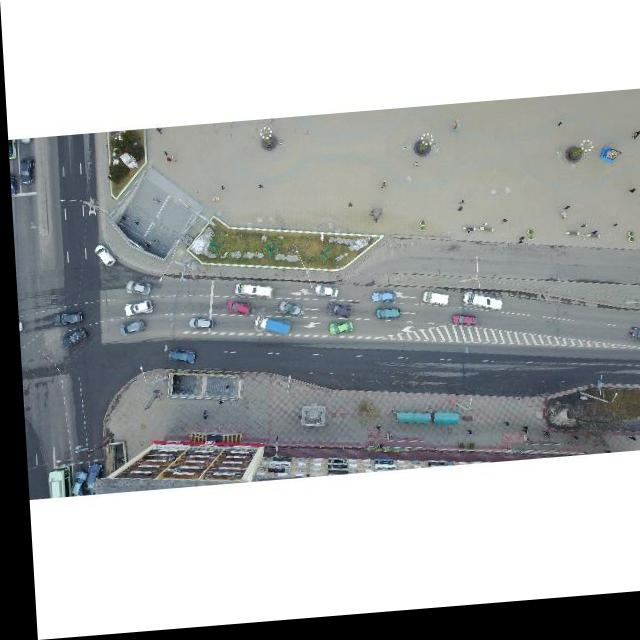vehicle: (457, 299, 501, 321), (249, 320, 287, 342), (231, 286, 272, 304), (89, 245, 114, 270), (79, 463, 98, 494), (56, 329, 84, 350), (16, 156, 34, 187), (273, 304, 302, 323), (417, 296, 446, 315), (162, 350, 192, 368), (219, 303, 249, 321), (121, 281, 149, 299), (120, 302, 151, 318), (321, 307, 349, 324), (324, 325, 351, 342), (371, 311, 397, 328), (65, 471, 82, 497), (115, 322, 142, 337), (447, 320, 474, 335), (49, 312, 79, 325), (183, 319, 210, 333), (310, 290, 335, 305), (368, 296, 393, 311), (623, 337, 640, 357)
